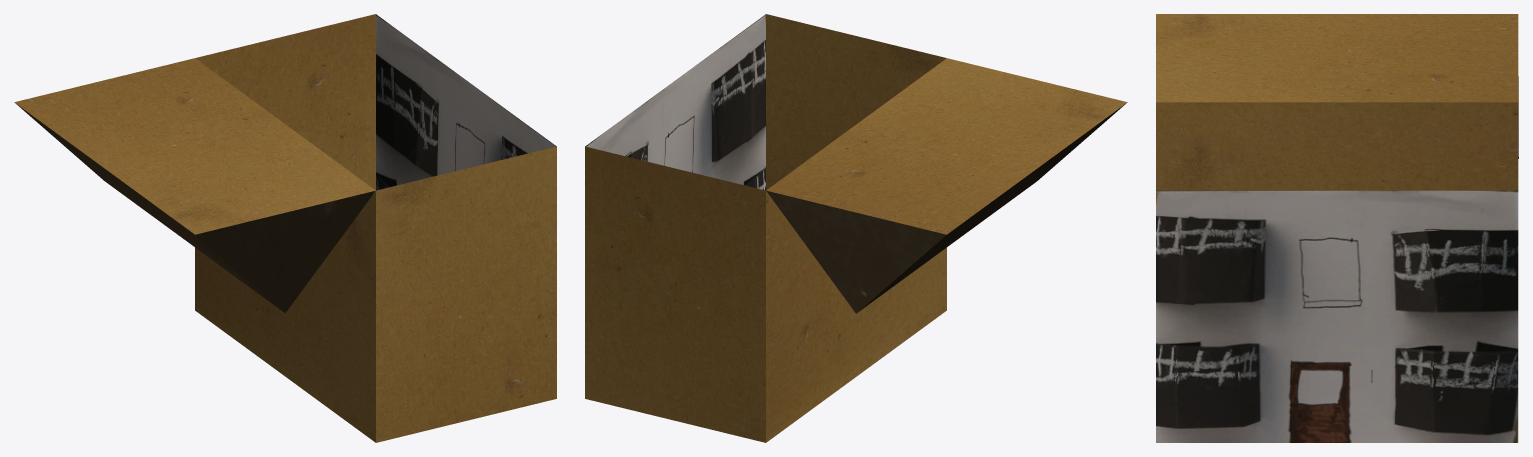
3 renders of one model, left to right at view 1: azimuth 30°, elevation 25°; view 2: azimuth 150°, elevation 25°; view 3: azimuth 270°, elevation 25°, orthographic.
Visible parts, largest first — view 1: Cube, Cube.002, Cube.003, Cube.001; view 2: Cube, Cube.002, Cube.003, Cube.001; view 3: Cube, Cube.002, Cube.003.
Part boxes in pixels (left/top/right/bottom): Cube: left=195, top=146, right=556, bottom=442; Cube.002: left=14, top=58, right=375, bottom=312; Cube.003: left=195, top=14, right=556, bottom=190; Cube.001: left=16, top=104, right=284, bottom=312; Cube: left=585, top=146, right=946, bottom=442; Cube.002: left=766, top=58, right=1127, bottom=313; Cube.003: left=585, top=14, right=946, bottom=190; Cube.001: left=857, top=104, right=1125, bottom=312; Cube: left=1156, top=190, right=1518, bottom=442; Cube.002: left=1156, top=14, right=1518, bottom=157; Cube.003: left=1156, top=102, right=1518, bottom=190.
Bounding box in the file's own units: 15 × 10 × 13.02.
1 material, 1 textured.
